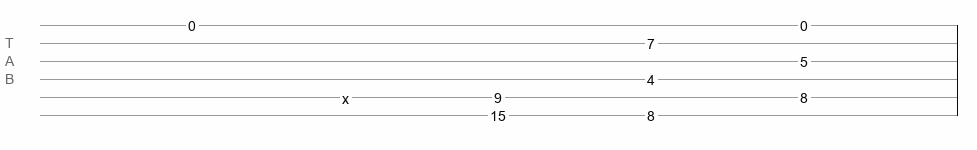0: (188, 18, 196, 28), (800, 18, 808, 28)
15: (490, 108, 506, 118)
4: (647, 72, 655, 82)
5: (800, 54, 808, 64)
7: (647, 36, 655, 46)
8: (647, 108, 655, 118), (800, 90, 808, 100)
9: (494, 90, 502, 100)
x: (342, 91, 349, 99)
